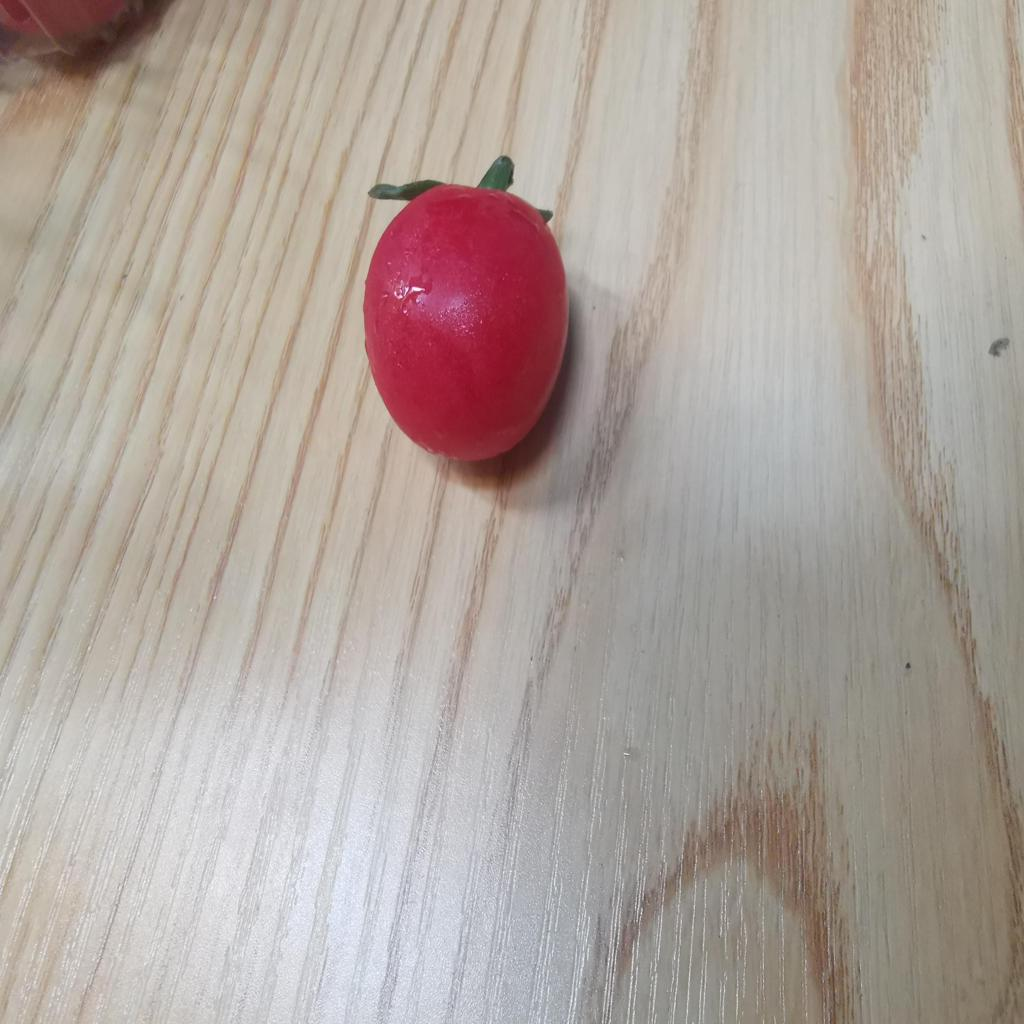tomato: (363, 177, 578, 464)
